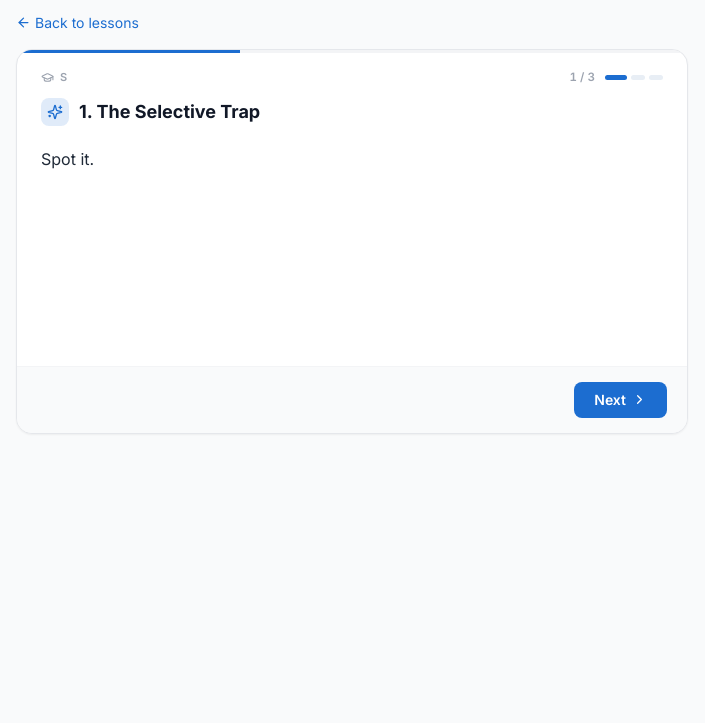
Scenario: segmented lesson player › quiz with per-question figures suppresses the shared carried figure (W-136)
expect the text "Spot it." is shown: met, box [41,149,94,169]
What coordinates should you click on to do the following:
click the button "Next"
I would click on:
 (621, 400)
Its box is [574,382,667,418].
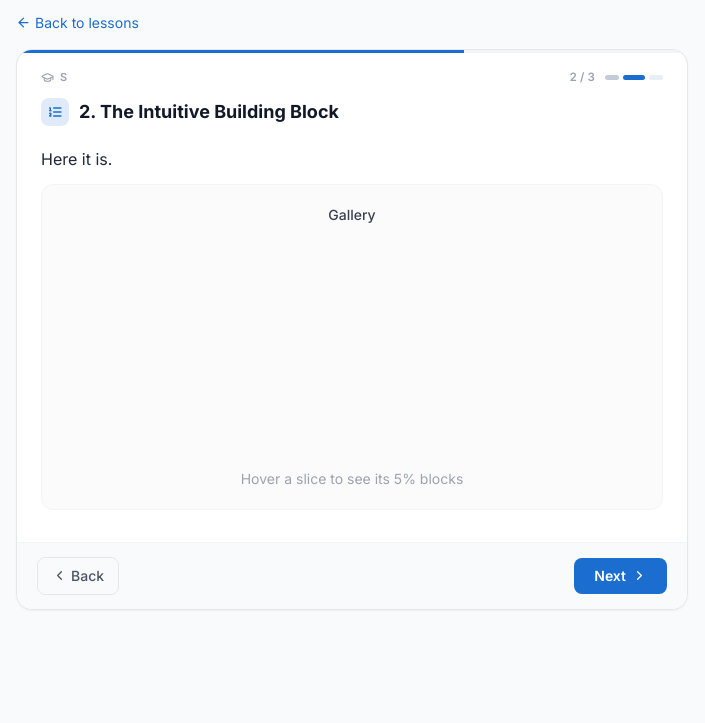
What coordinates should you click on to do the following:
click the button "Next"
I would click on:
 (621, 576)
Its box is [574,558,667,594].
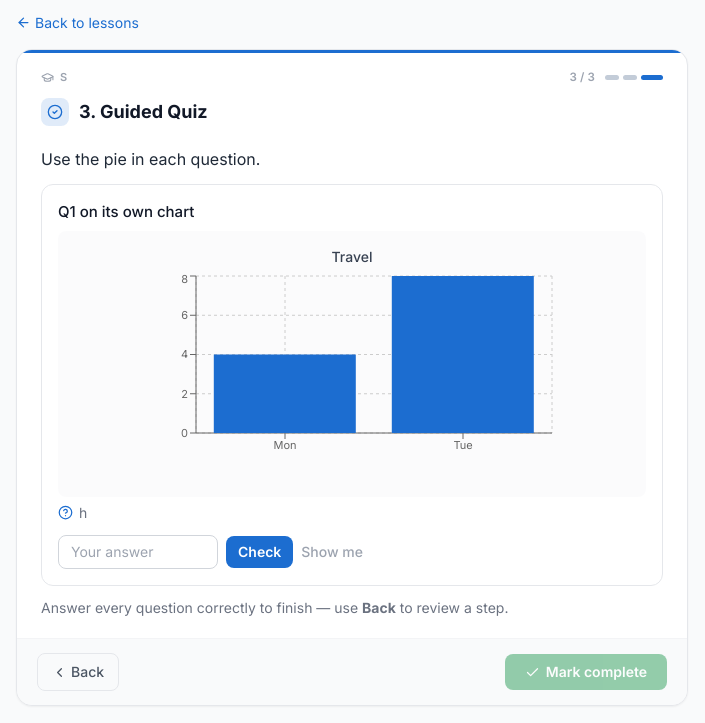
expect the text "Q1 on its own chart" is shown: met, box [58,202,194,221]
expect the element with test id "stimulus-bar-chart" is shown: met, box [132,248,572,481]
expect the element with test id "stimulus-pie-chart" is gone: met
